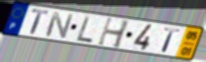4: (132, 23, 153, 52)
H: (95, 16, 132, 50)
L: (76, 14, 95, 44)
N: (43, 10, 75, 40)
T: (160, 26, 182, 54), (29, 8, 50, 36)
